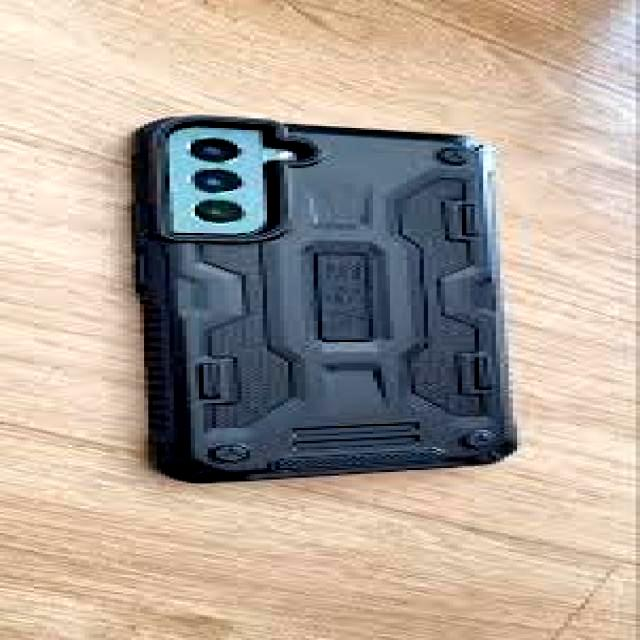lens_back: (180, 192, 255, 232), (184, 127, 244, 171), (185, 166, 248, 194)
